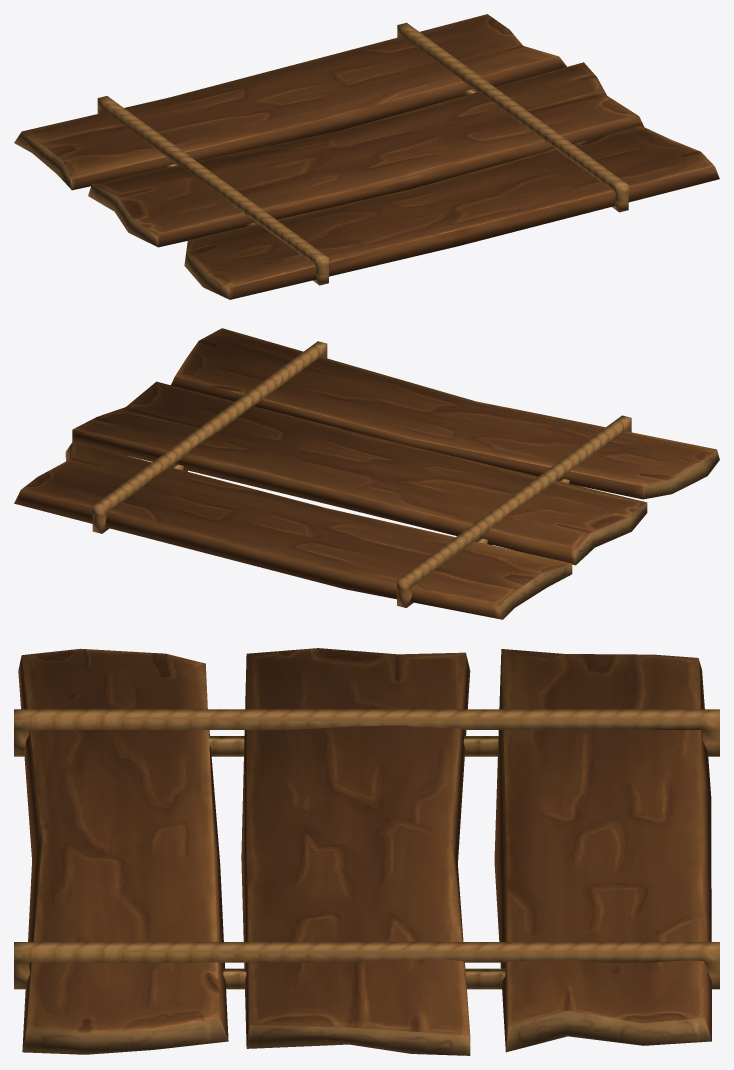
The model's file is FallinfPlatform.fbx.
3 views of the same model, one above another, from view 1: azimuth 30°, elevation 25°; view 2: azimuth 150°, elevation 25°; view 3: azimuth 270°, elevation 25° (orthographic). The views are drawn at different scales.
Visible parts, largest first — view 1: Cube; view 2: Cube; view 3: Cube.
Boxes of the visible parts, <box> form: Cube: <box>14,14,719,299</box>; Cube: <box>14,328,719,619</box>; Cube: <box>14,648,719,1055</box>.
Bounding box in the file's own units: 8.27 × 0.3961 × 6.31.
